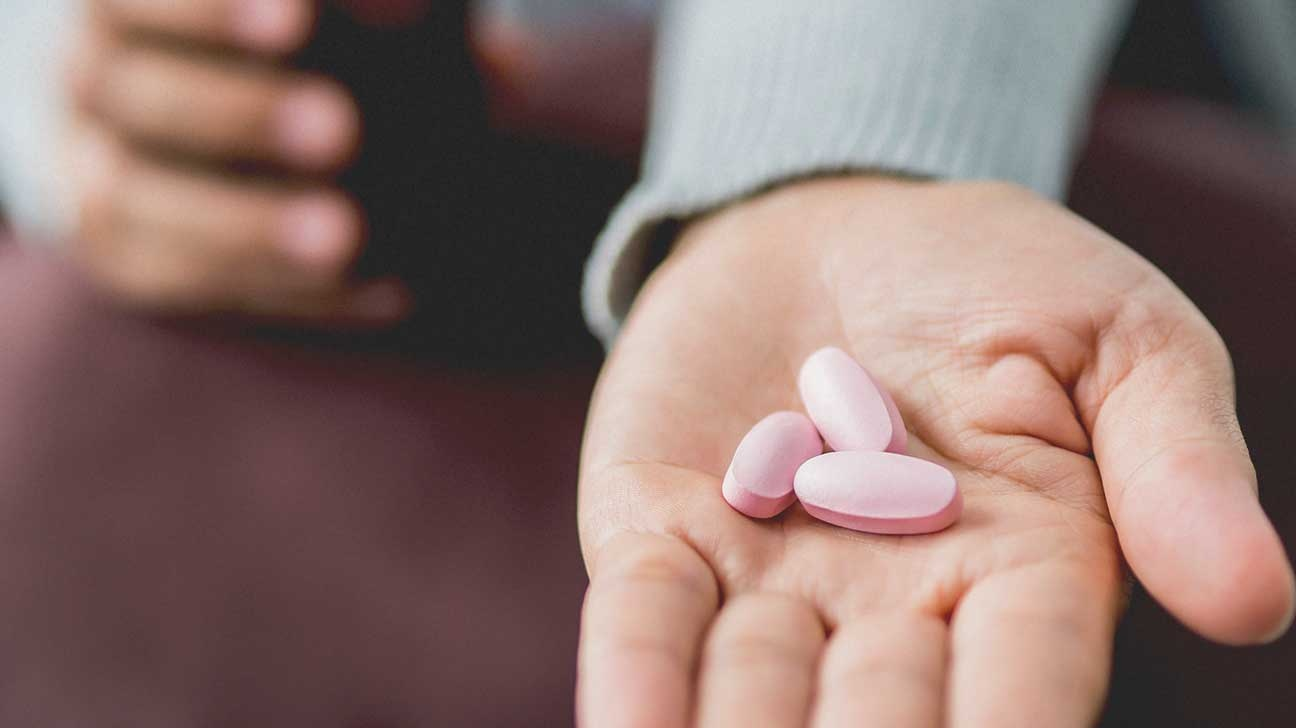pills: (795, 459, 968, 538), (791, 344, 895, 468), (720, 410, 816, 510)
